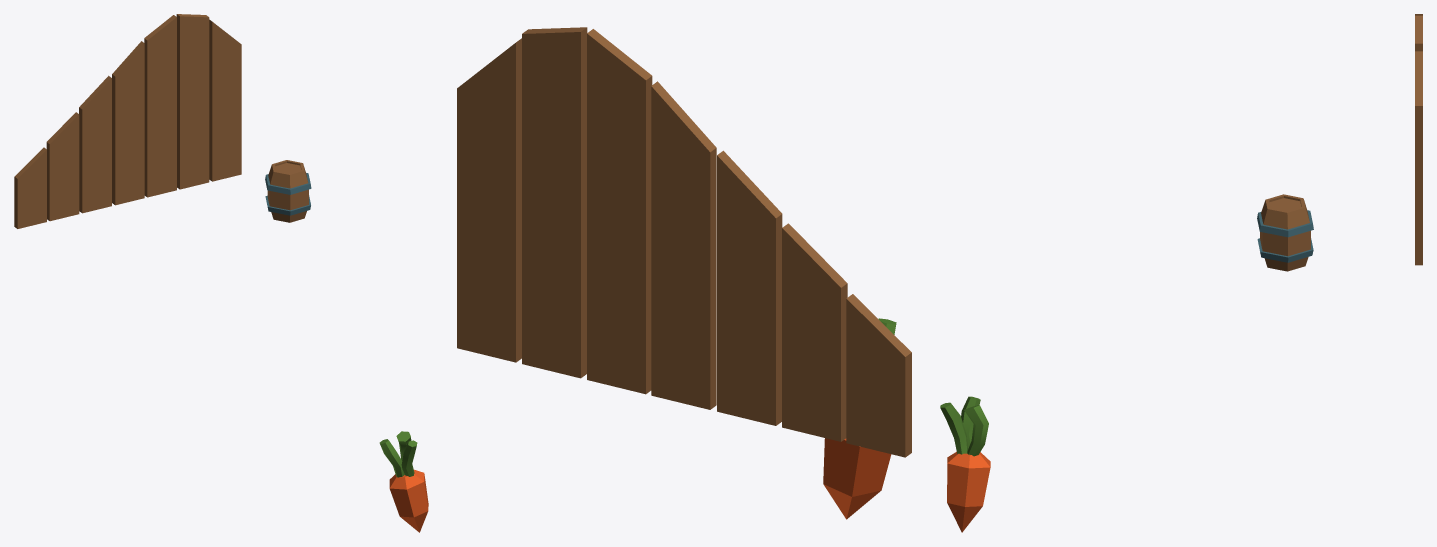
The picture shows the model from 3 angles, left to right: view 1: azimuth 30°, elevation 25°; view 2: azimuth 150°, elevation 25°; view 3: azimuth 270°, elevation 25°; orthographic projection. The views are drawn at different scales.
Parts seen in each view (by area): view 1: Plane424_brown_0, Cylinder1739_brown_0, Line1458_red2_0, Line1458_green_0, Cylinder1739_metal_0; view 2: Plane424_brown_0, Line1458_red2_0; view 3: Cylinder1739_brown_0, Line1458_red2_0, Plane424_brown_0, Line1458_green_0, Cylinder1739_metal_0.
Part boxes in pixels (x1,y1,x2,y2): Plane424_brown_0: (14,14,241,228); Cylinder1739_brown_0: (267,160,308,222); Line1458_red2_0: (389,469,428,532); Line1458_green_0: (379,431,417,477); Cylinder1739_metal_0: (265,173,311,215); Plane424_brown_0: (457,27,911,457); Line1458_red2_0: (823,438,891,519); Cylinder1739_brown_0: (1260,194,1310,271); Line1458_red2_0: (947,451,990,532); Plane424_brown_0: (1415,14,1422,265); Line1458_green_0: (940,396,988,456); Cylinder1739_metal_0: (1257,210,1313,262).
Size of the model in its own units: 346 by 544 by 491.
